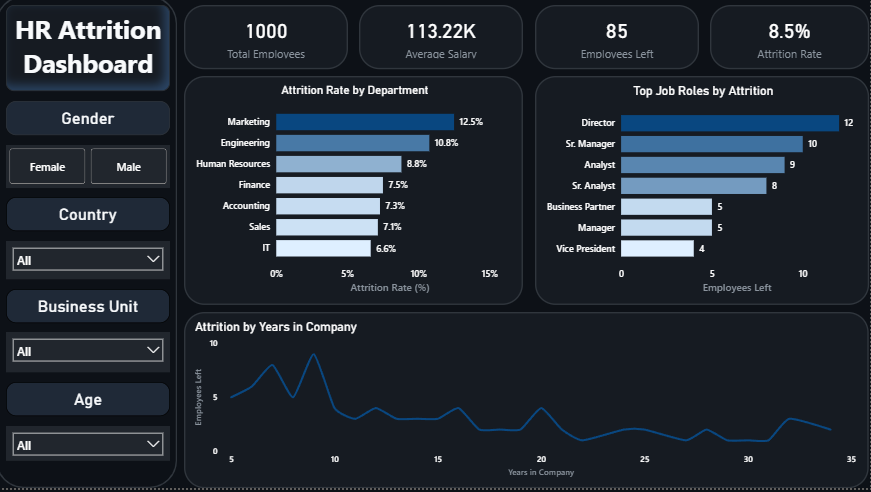

The page's visual inventory and layout, read from the dashboard file:
{"tool":"powerbi","page":{"name":"HR Dashboard","canvas":[1280,720],"ordinal":0},"visuals":[{"type":"shape","box":[0,0,264.9,720],"z":0},{"type":"card","fields":{"Values":["TBL_Employees.Total Employees"]},"box":[275.1,13.2,240,93.7],"z":1000},{"type":"card","fields":{"Values":["TBL_Employees.Avg Salary"]},"box":[531.7,13.2,240,93.7],"z":2000},{"type":"card","fields":{"Values":["TBL_Employees.Attrition Count"]},"box":[788.3,13.2,240,93.7],"z":3000},{"type":"card","fields":{"Values":["TBL_Employees.Attrition Rate %"]},"box":[1044.9,13.2,232.7,93.7],"z":4000},{"type":"textbox","box":[14.6,13.2,240,125.9],"z":5000},{"type":"barChart","title":"Attrition Rate by Department","fields":{"Category":["TBL_Employees.Department"],"Y":["TBL_Employees.Attrition Rate %"]},"box":[275.1,117.1,496.1,335.1],"z":6000},{"type":"barChart","title":"Top Job Roles by Attrition","fields":{"Y":["TBL_Employees.Attrition Count"],"Category":["TBL_Employees.Job Title"]},"box":[788.8,117.1,488.8,335.1],"z":7000},{"type":"lineChart","title":"Attrition by Years in Company","fields":{"Category":["TBL_Employees.Years in Company"],"Y":["TBL_Employees.Attrition Count"]},"box":[275.1,462.4,1002.4,257.6],"z":8000},{"type":"advancedSlicerVisual","fields":{"Values":["TBL_Employees.Gender"]},"box":[14.6,217.3,240,62.9],"z":9000},{"type":"textbox","box":[14.6,153.2,240,50],"z":10000},{"type":"slicer","fields":{"Values":["TBL_Employees.Country"]},"box":[14.6,358.5,240,55.6],"z":11000},{"type":"textbox","box":[14.6,294.4,240,50],"z":12000},{"type":"slicer","fields":{"Values":["TBL_Employees.Business Unit"]},"box":[14.6,492.4,240,58.5],"z":13000},{"type":"slicer","fields":{"Values":["TBL_Employees.Age Group"]},"box":[14.6,629.3,240,51.2],"z":14000},{"type":"textbox","box":[14.6,428.3,240,50],"z":15000},{"type":"textbox","box":[14.6,565.1,240,50],"z":16000}]}

Visuals, with their boxes in screenshot pixels (x1, y1, x2, y2), scaled from the page's 1280x720 canvas onto the 871x492 screenshot:
shape: <region>0, 0, 180, 491</region>
card - TBL_Employees.Total Employees: <region>187, 9, 351, 73</region>
card - TBL_Employees.Avg Salary: <region>362, 9, 525, 73</region>
card - TBL_Employees.Attrition Count: <region>536, 9, 700, 73</region>
card - TBL_Employees.Attrition Rate %: <region>711, 9, 869, 73</region>
textbox: <region>10, 9, 173, 95</region>
"Attrition Rate by Department" barChart: <region>187, 80, 525, 309</region>
"Top Job Roles by Attrition" barChart: <region>537, 80, 869, 309</region>
"Attrition by Years in Company" lineChart: <region>187, 316, 869, 491</region>
advancedSlicerVisual - TBL_Employees.Gender: <region>10, 148, 173, 191</region>
textbox: <region>10, 105, 173, 139</region>
slicer - TBL_Employees.Country: <region>10, 245, 173, 283</region>
textbox: <region>10, 201, 173, 235</region>
slicer - TBL_Employees.Business Unit: <region>10, 336, 173, 376</region>
slicer - TBL_Employees.Age Group: <region>10, 430, 173, 465</region>
textbox: <region>10, 293, 173, 327</region>
textbox: <region>10, 386, 173, 420</region>
